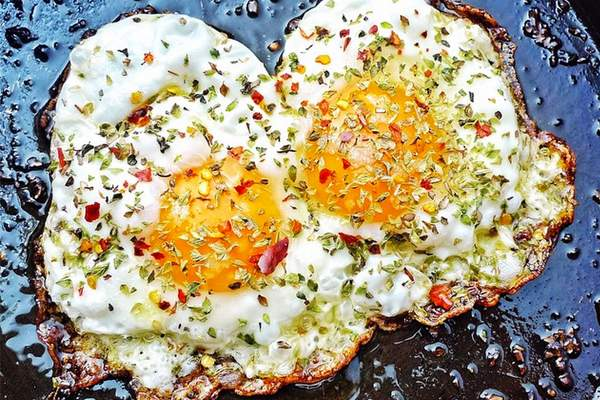fried egg: (86, 58, 269, 357), (312, 54, 477, 295)
